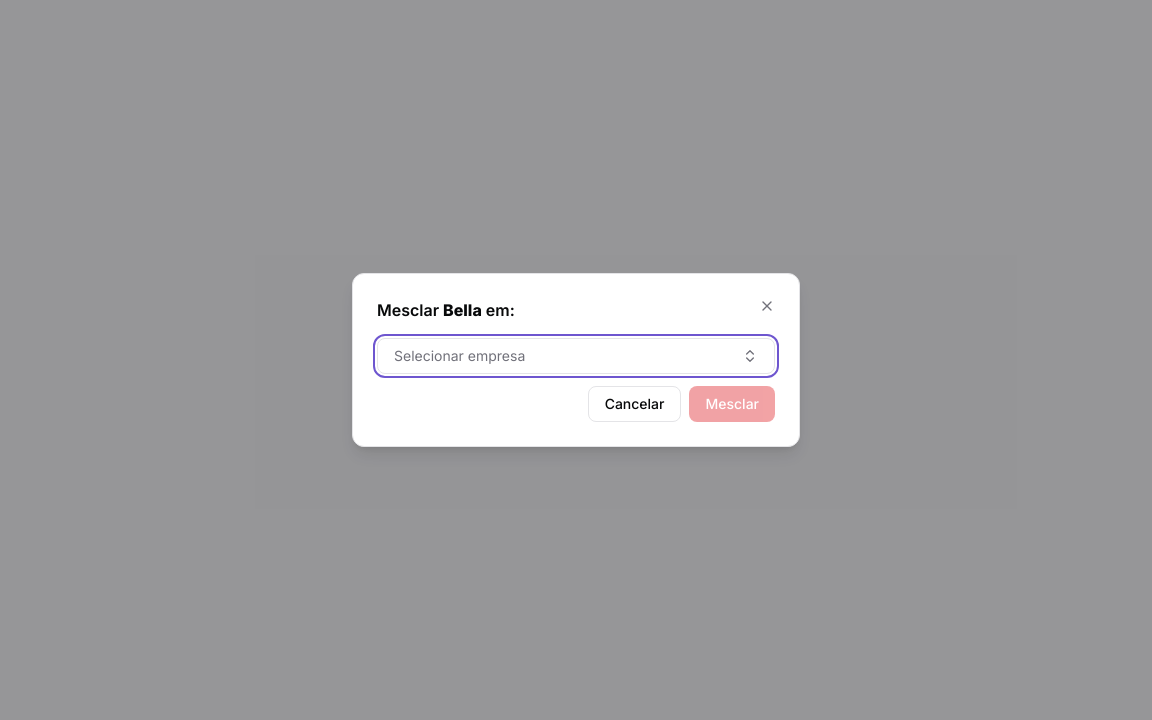
Test: MergeCompanyDialog › excludes the current company from the options and disables Mesclar until one is chosen
Check: the button "Mesclar" is disabled, box [690,386,775,422]
What coordinates should you click on to do the following:
click the dropdown named "Empresa que fica"
I would click on:
 (460, 356)
Its box is [377,338,775,374].
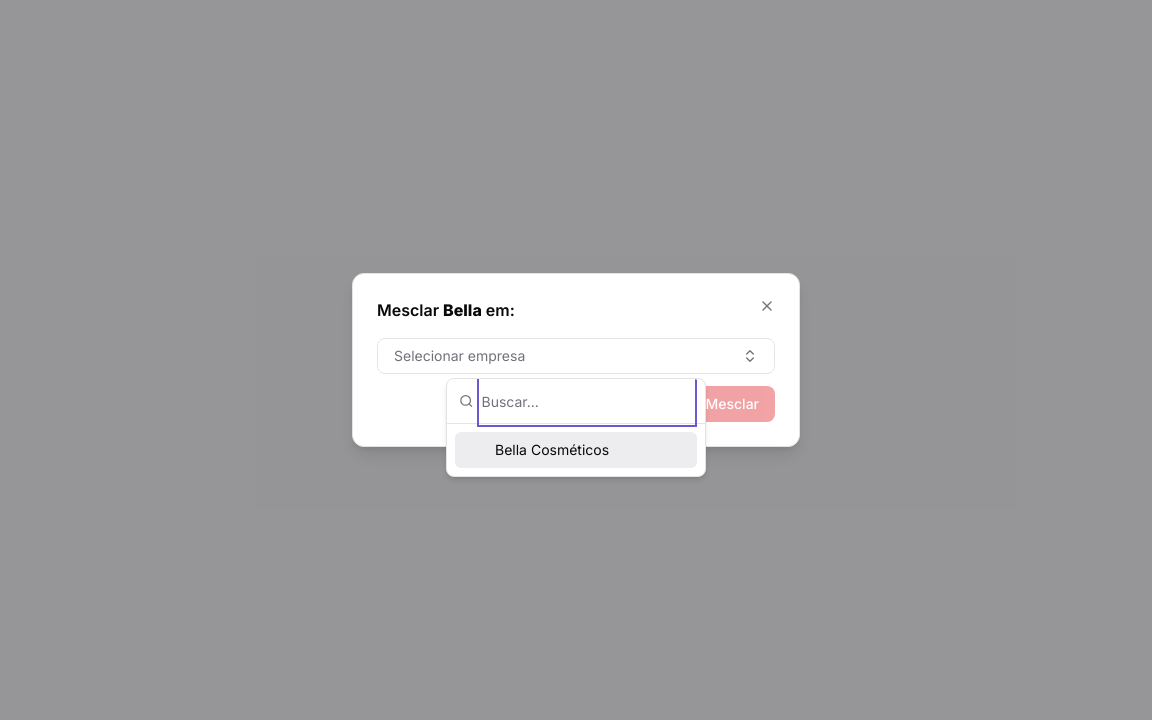
Check: the options read "Bella Cosméticos", in this order, box [455,432,697,468]
